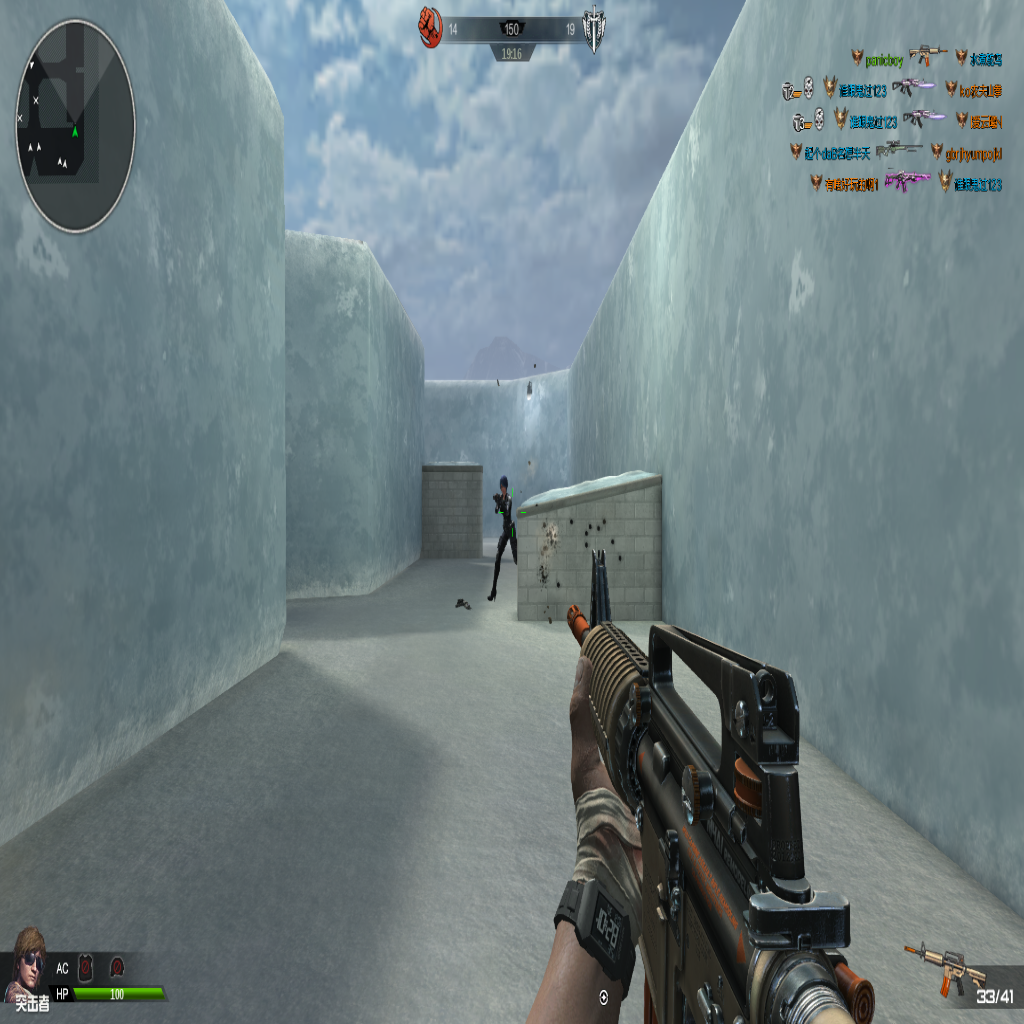ct: (488, 472, 517, 604)
